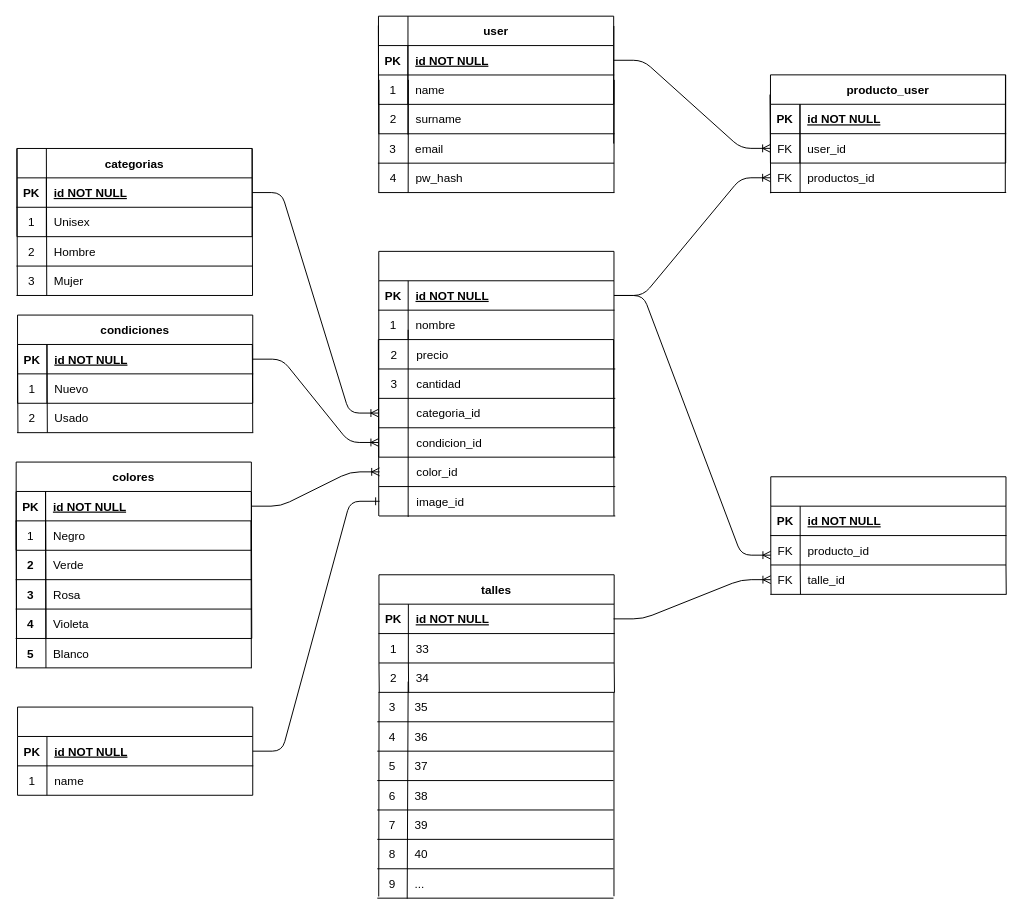
Some shapes in this 1022 by 915 pixel diagram are drawn without their labels. The box of each missing label's shape, as (x1, y1, x2, y2) in pixels:
image: (17, 706, 253, 795)
productos: (378, 250, 614, 340)
talle_producto: (770, 476, 1006, 565)
